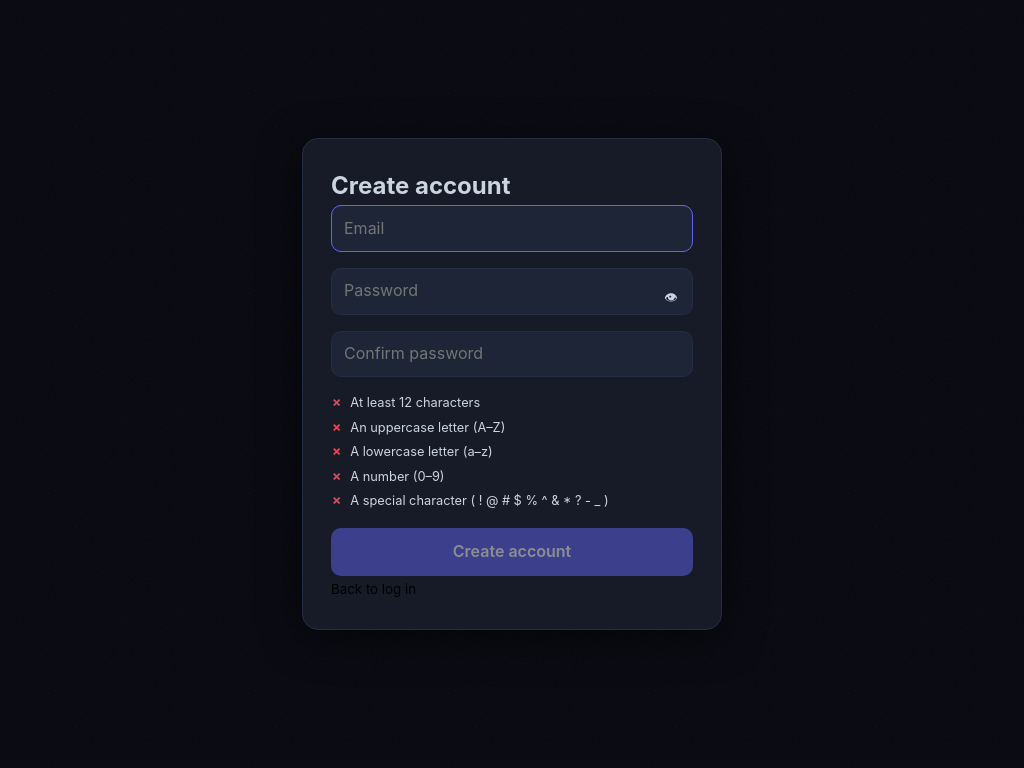
Test: AuthModal › register success moves to the verify panel
The width and height of the screenshot is (1024, 768).
Type "a@example.com" into the field labelled "Email" at (512, 228), box [331, 205, 693, 252]
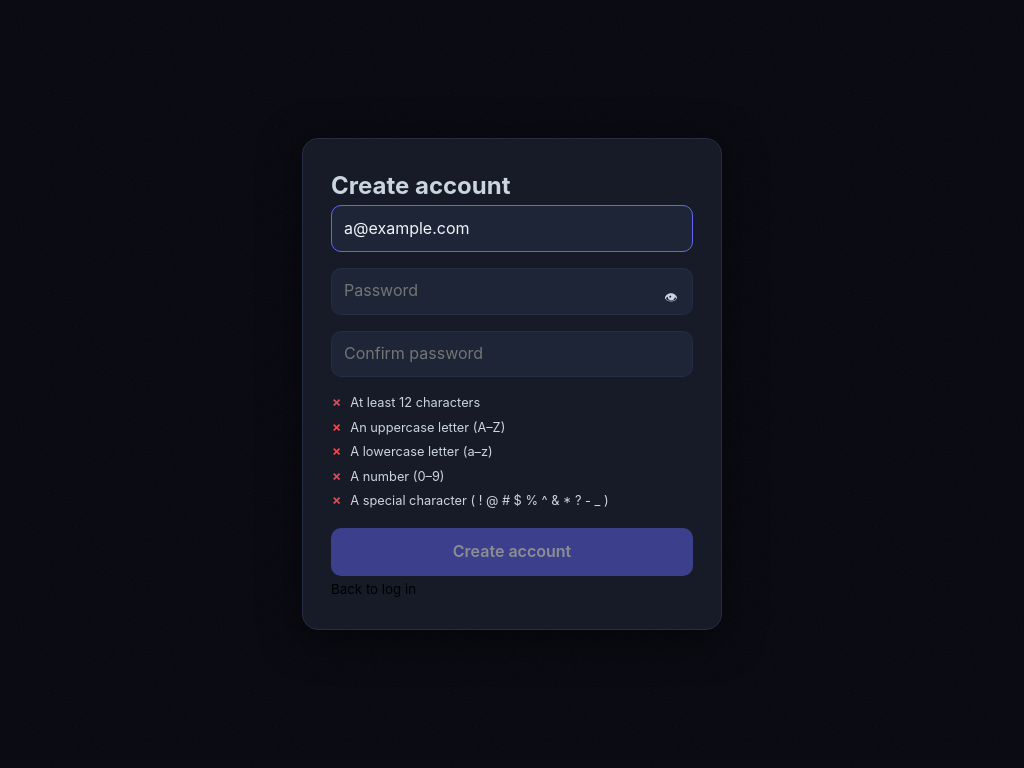
Type "LongEnough1!xx" into the password field labelled "Password" at (512, 291), box [331, 268, 693, 315]
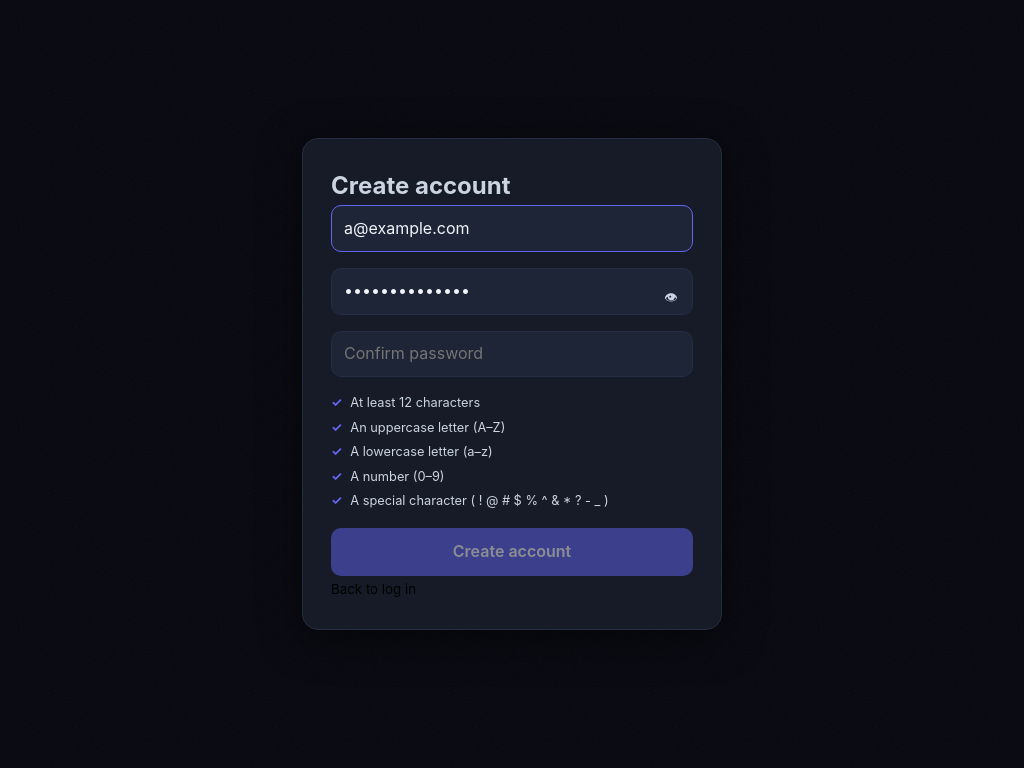
Type "LongEnough1!xx" into the password field labelled "Confirm password" at (512, 354), box [331, 331, 693, 377]
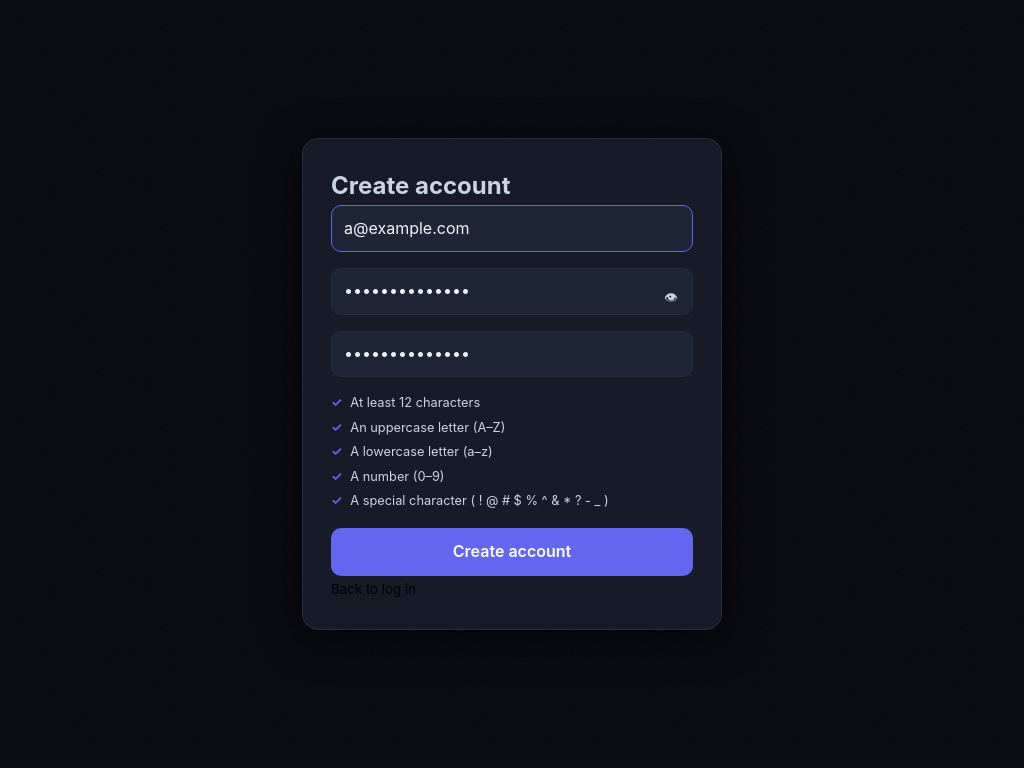
Click the button "Create account" at (512, 552), box [331, 528, 693, 576]
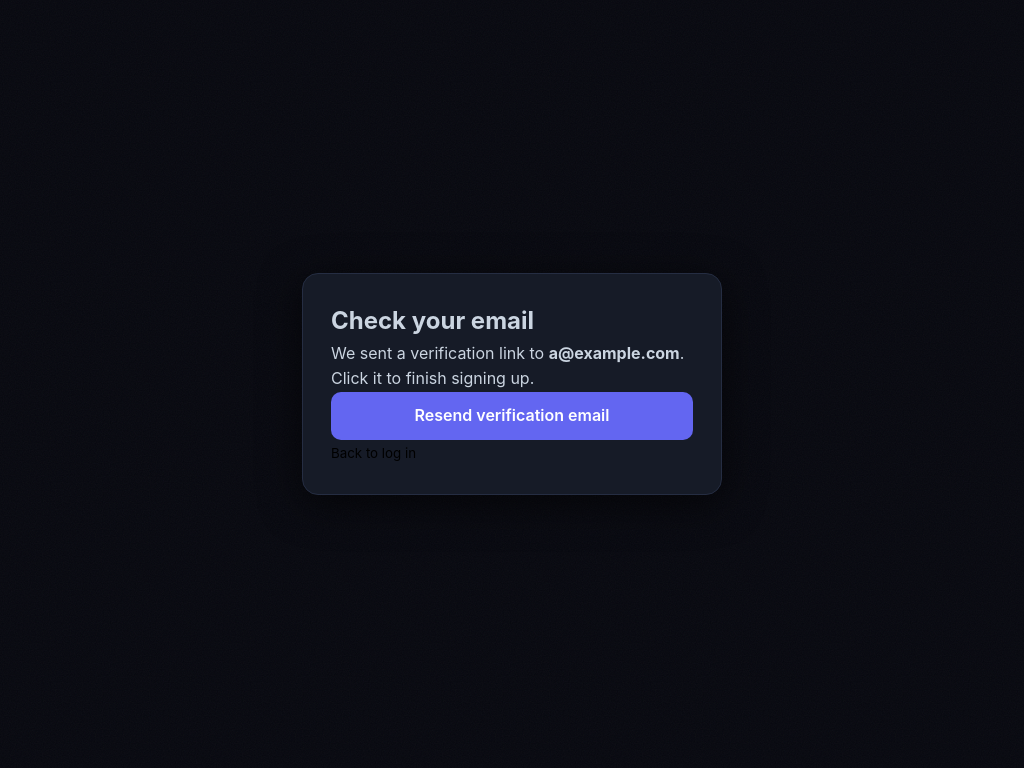
Check: the heading "Check your email" is shown, box [331, 306, 534, 335]
Check: the text "a@example.com" is shown, box [549, 343, 680, 363]
